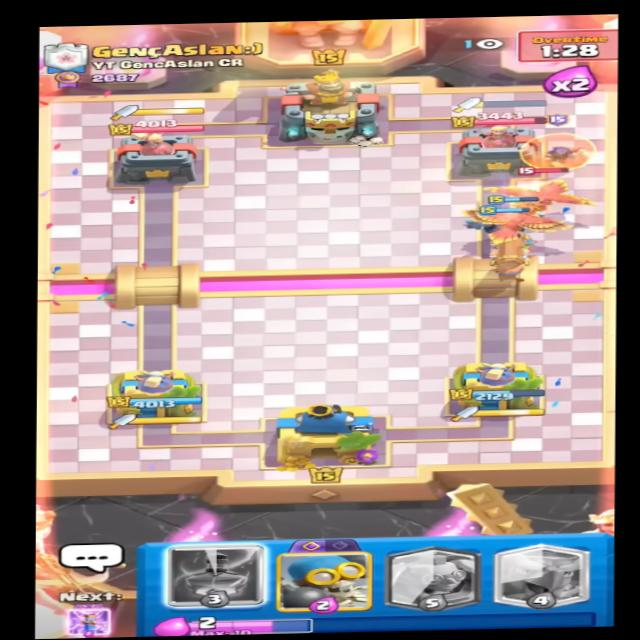evo-wizard: (517, 122, 602, 173)
phoenix: (493, 167, 593, 221)
